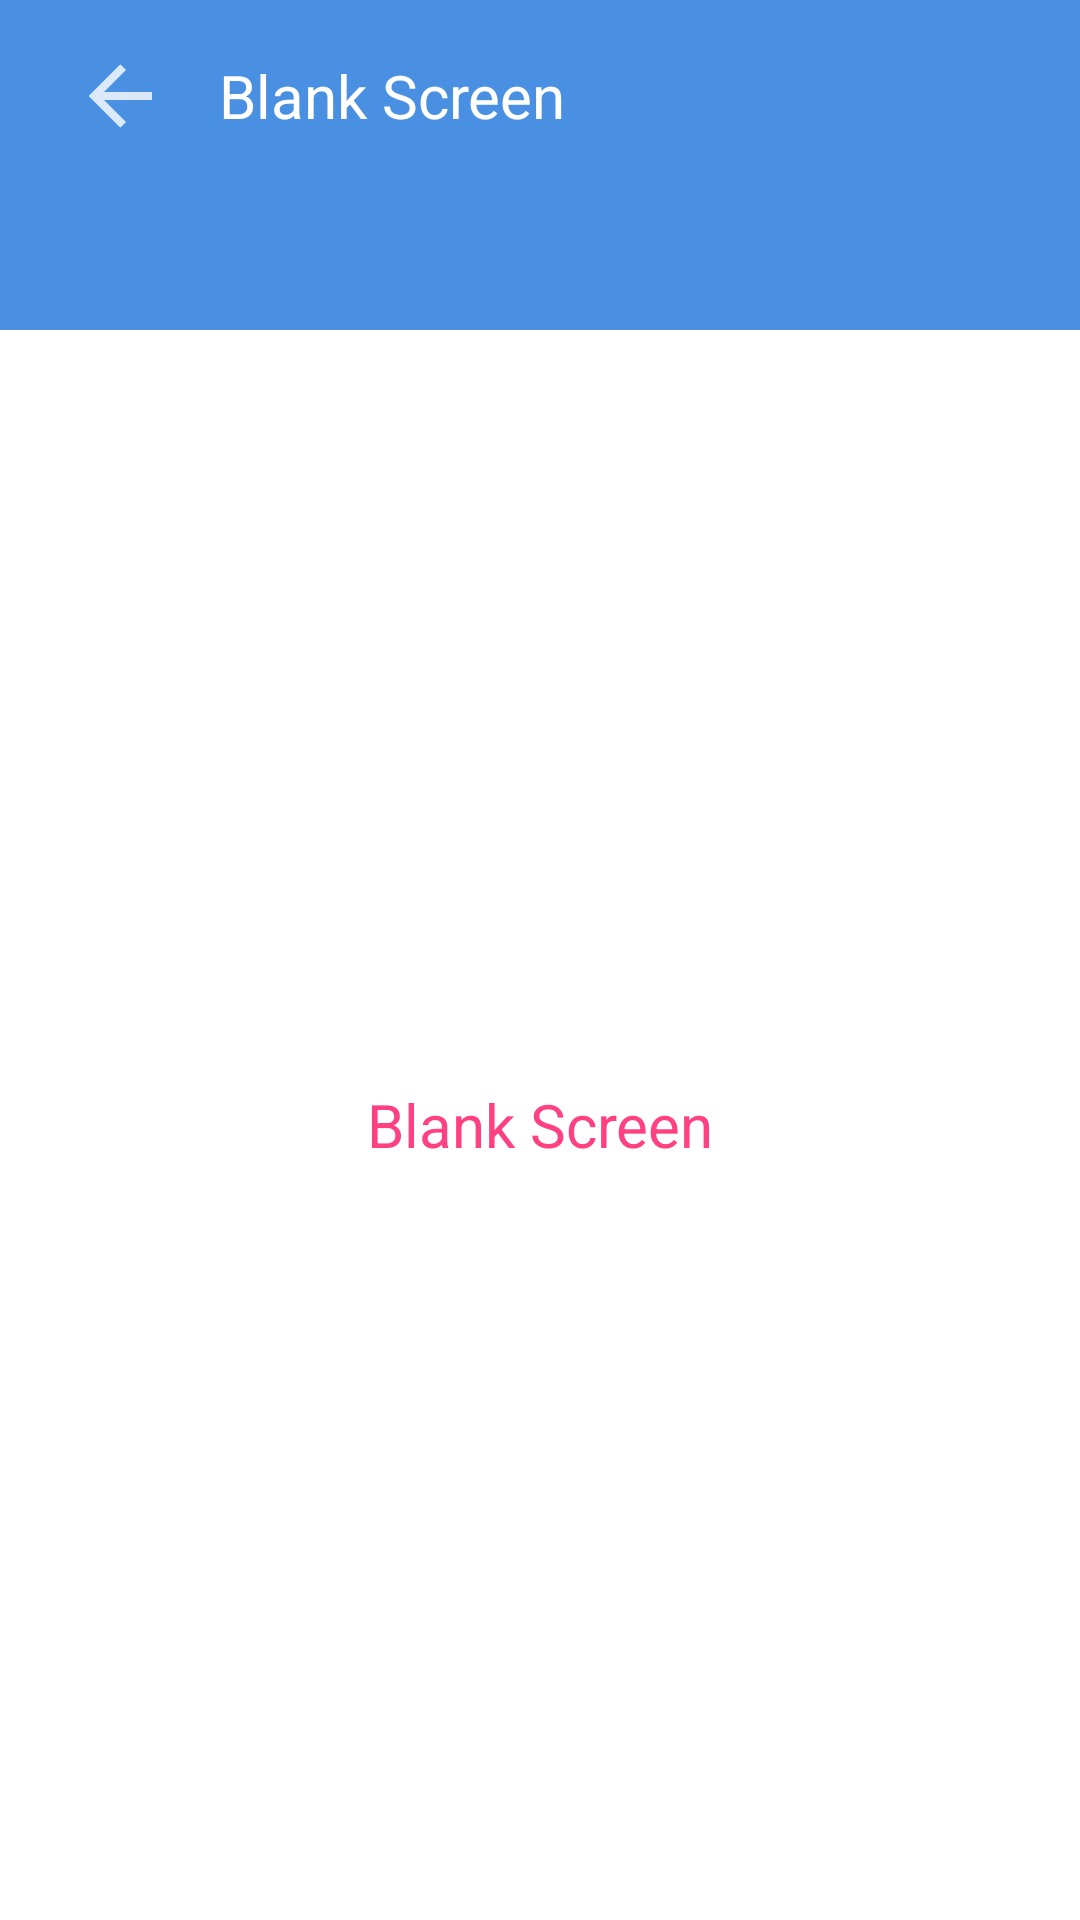

Icons on this 1080 x 1920 Android screen, each with the point to tap as point (x, y):
arrow left: point (120, 96)
